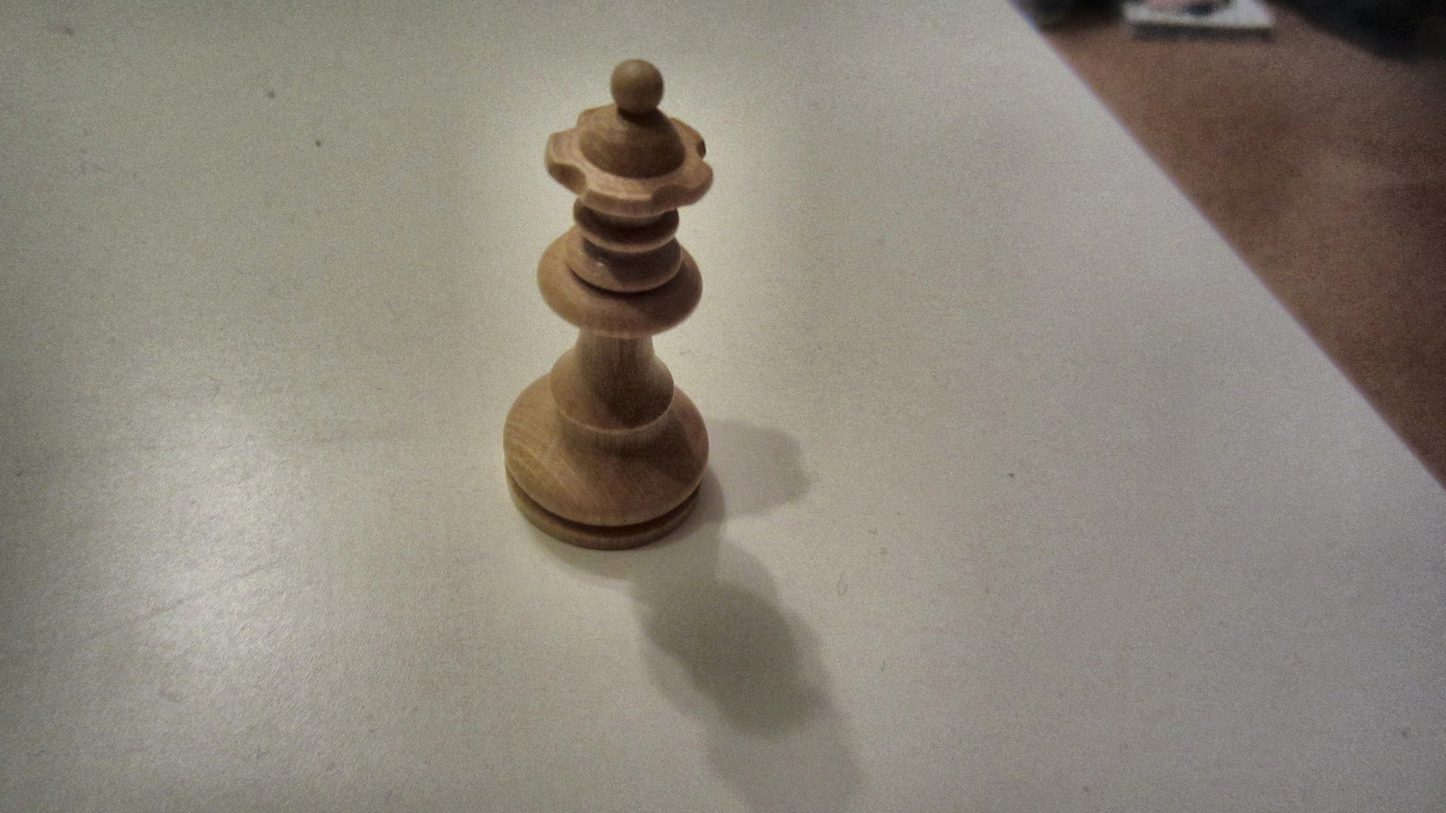white-queen: (499, 57, 725, 556)
